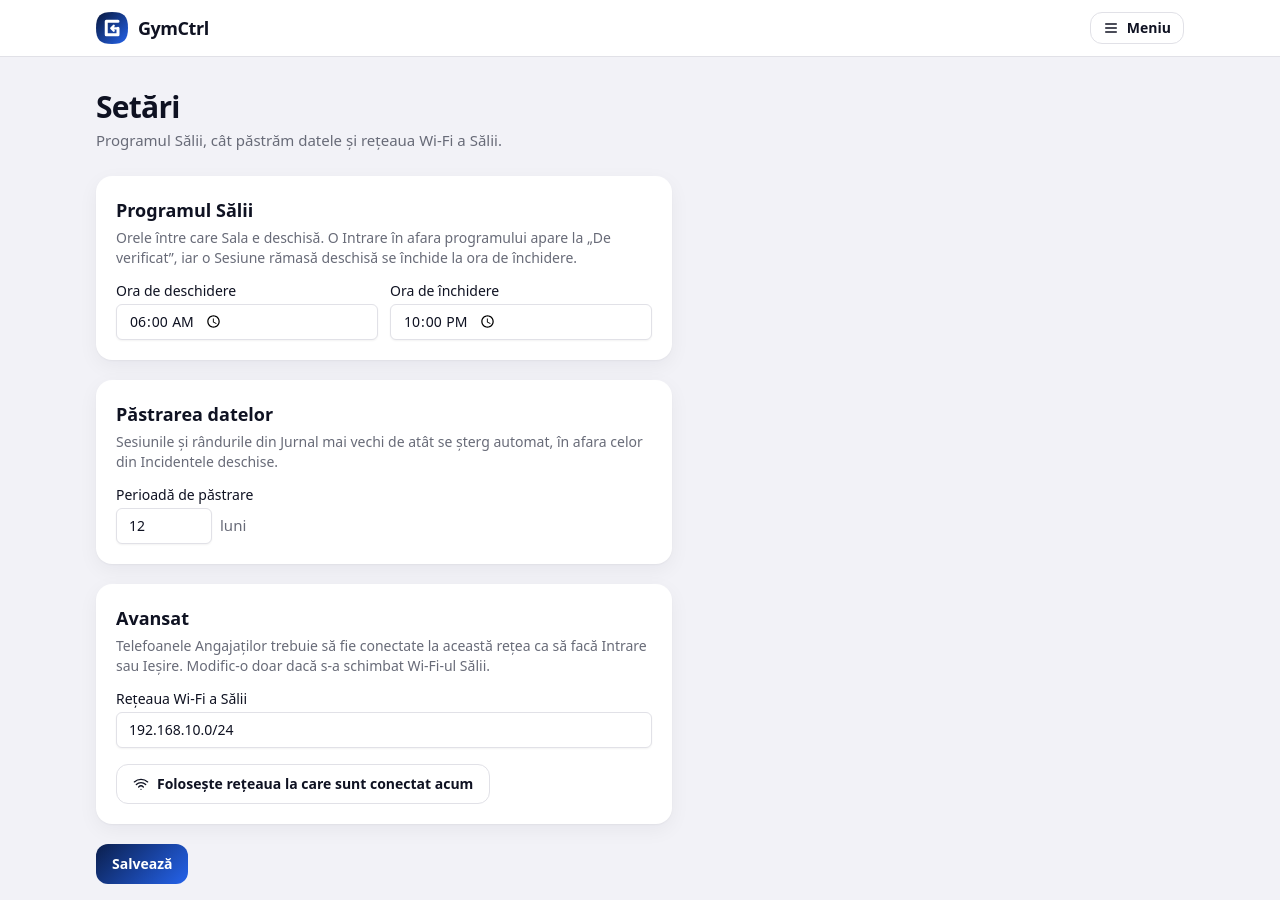
ecranul Setări › salvează valorile modificate și confirmă cu toast
The image size is (1280, 900).
Replace the text in the field labelled "Rețeaua Wi-Fi a Sălii" with "10.0.0.0/24" at (384, 730), box [116,712,652,748]
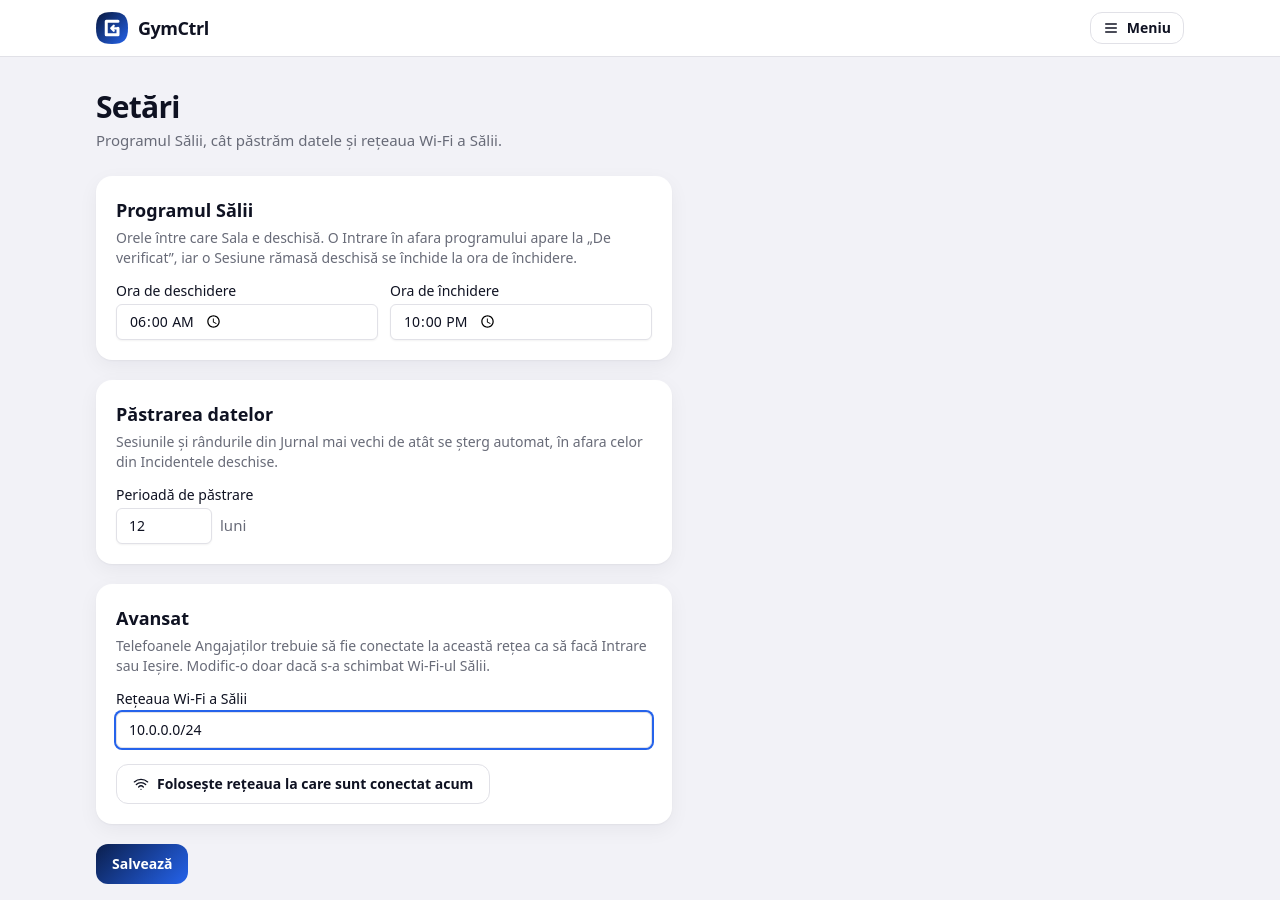
Replace the text in the time field labelled "Ora de închidere" with "21:15" at (521, 322), box [390,304,652,340]
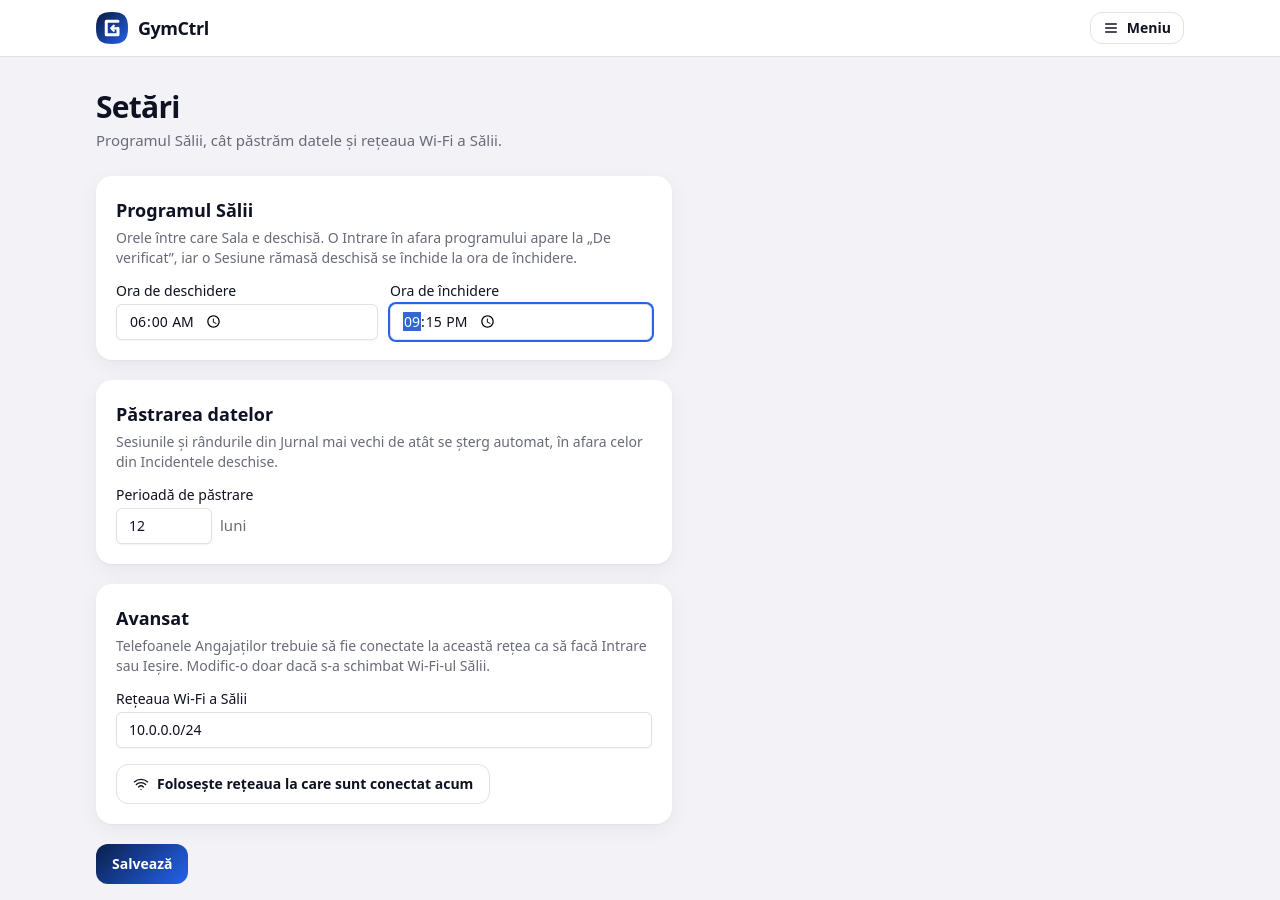
Click the button "Salvează" at (142, 864), box [96,844,188,884]
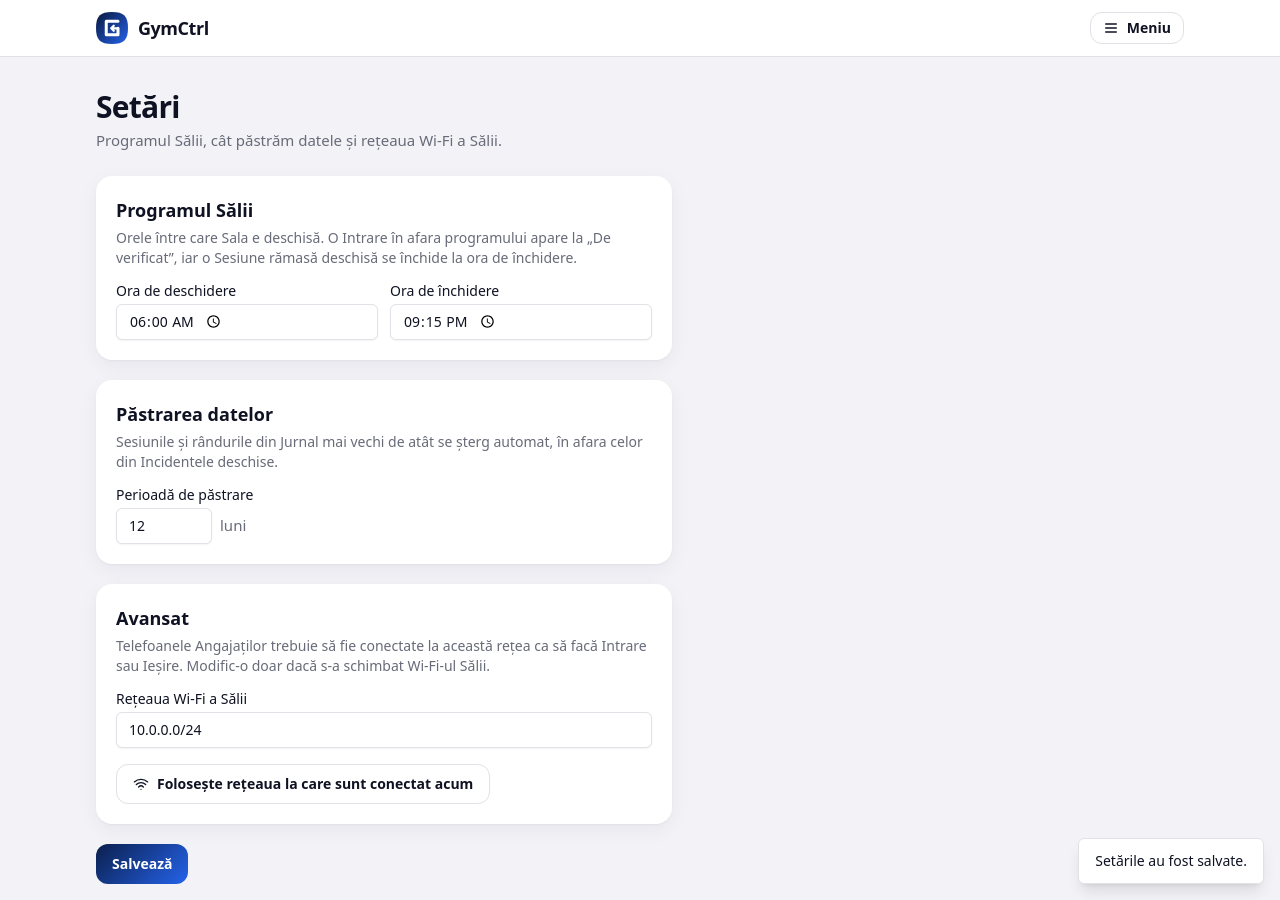
Check: the message reads "Setările au fost salvate.", box [1095,851,1247,870]
